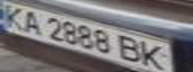2: (39, 15, 66, 42)
8: (93, 27, 115, 56), (75, 22, 96, 52), (60, 19, 81, 47)
A: (18, 8, 48, 36)
B: (115, 34, 148, 64)
K: (136, 41, 172, 71), (0, 3, 30, 29)
